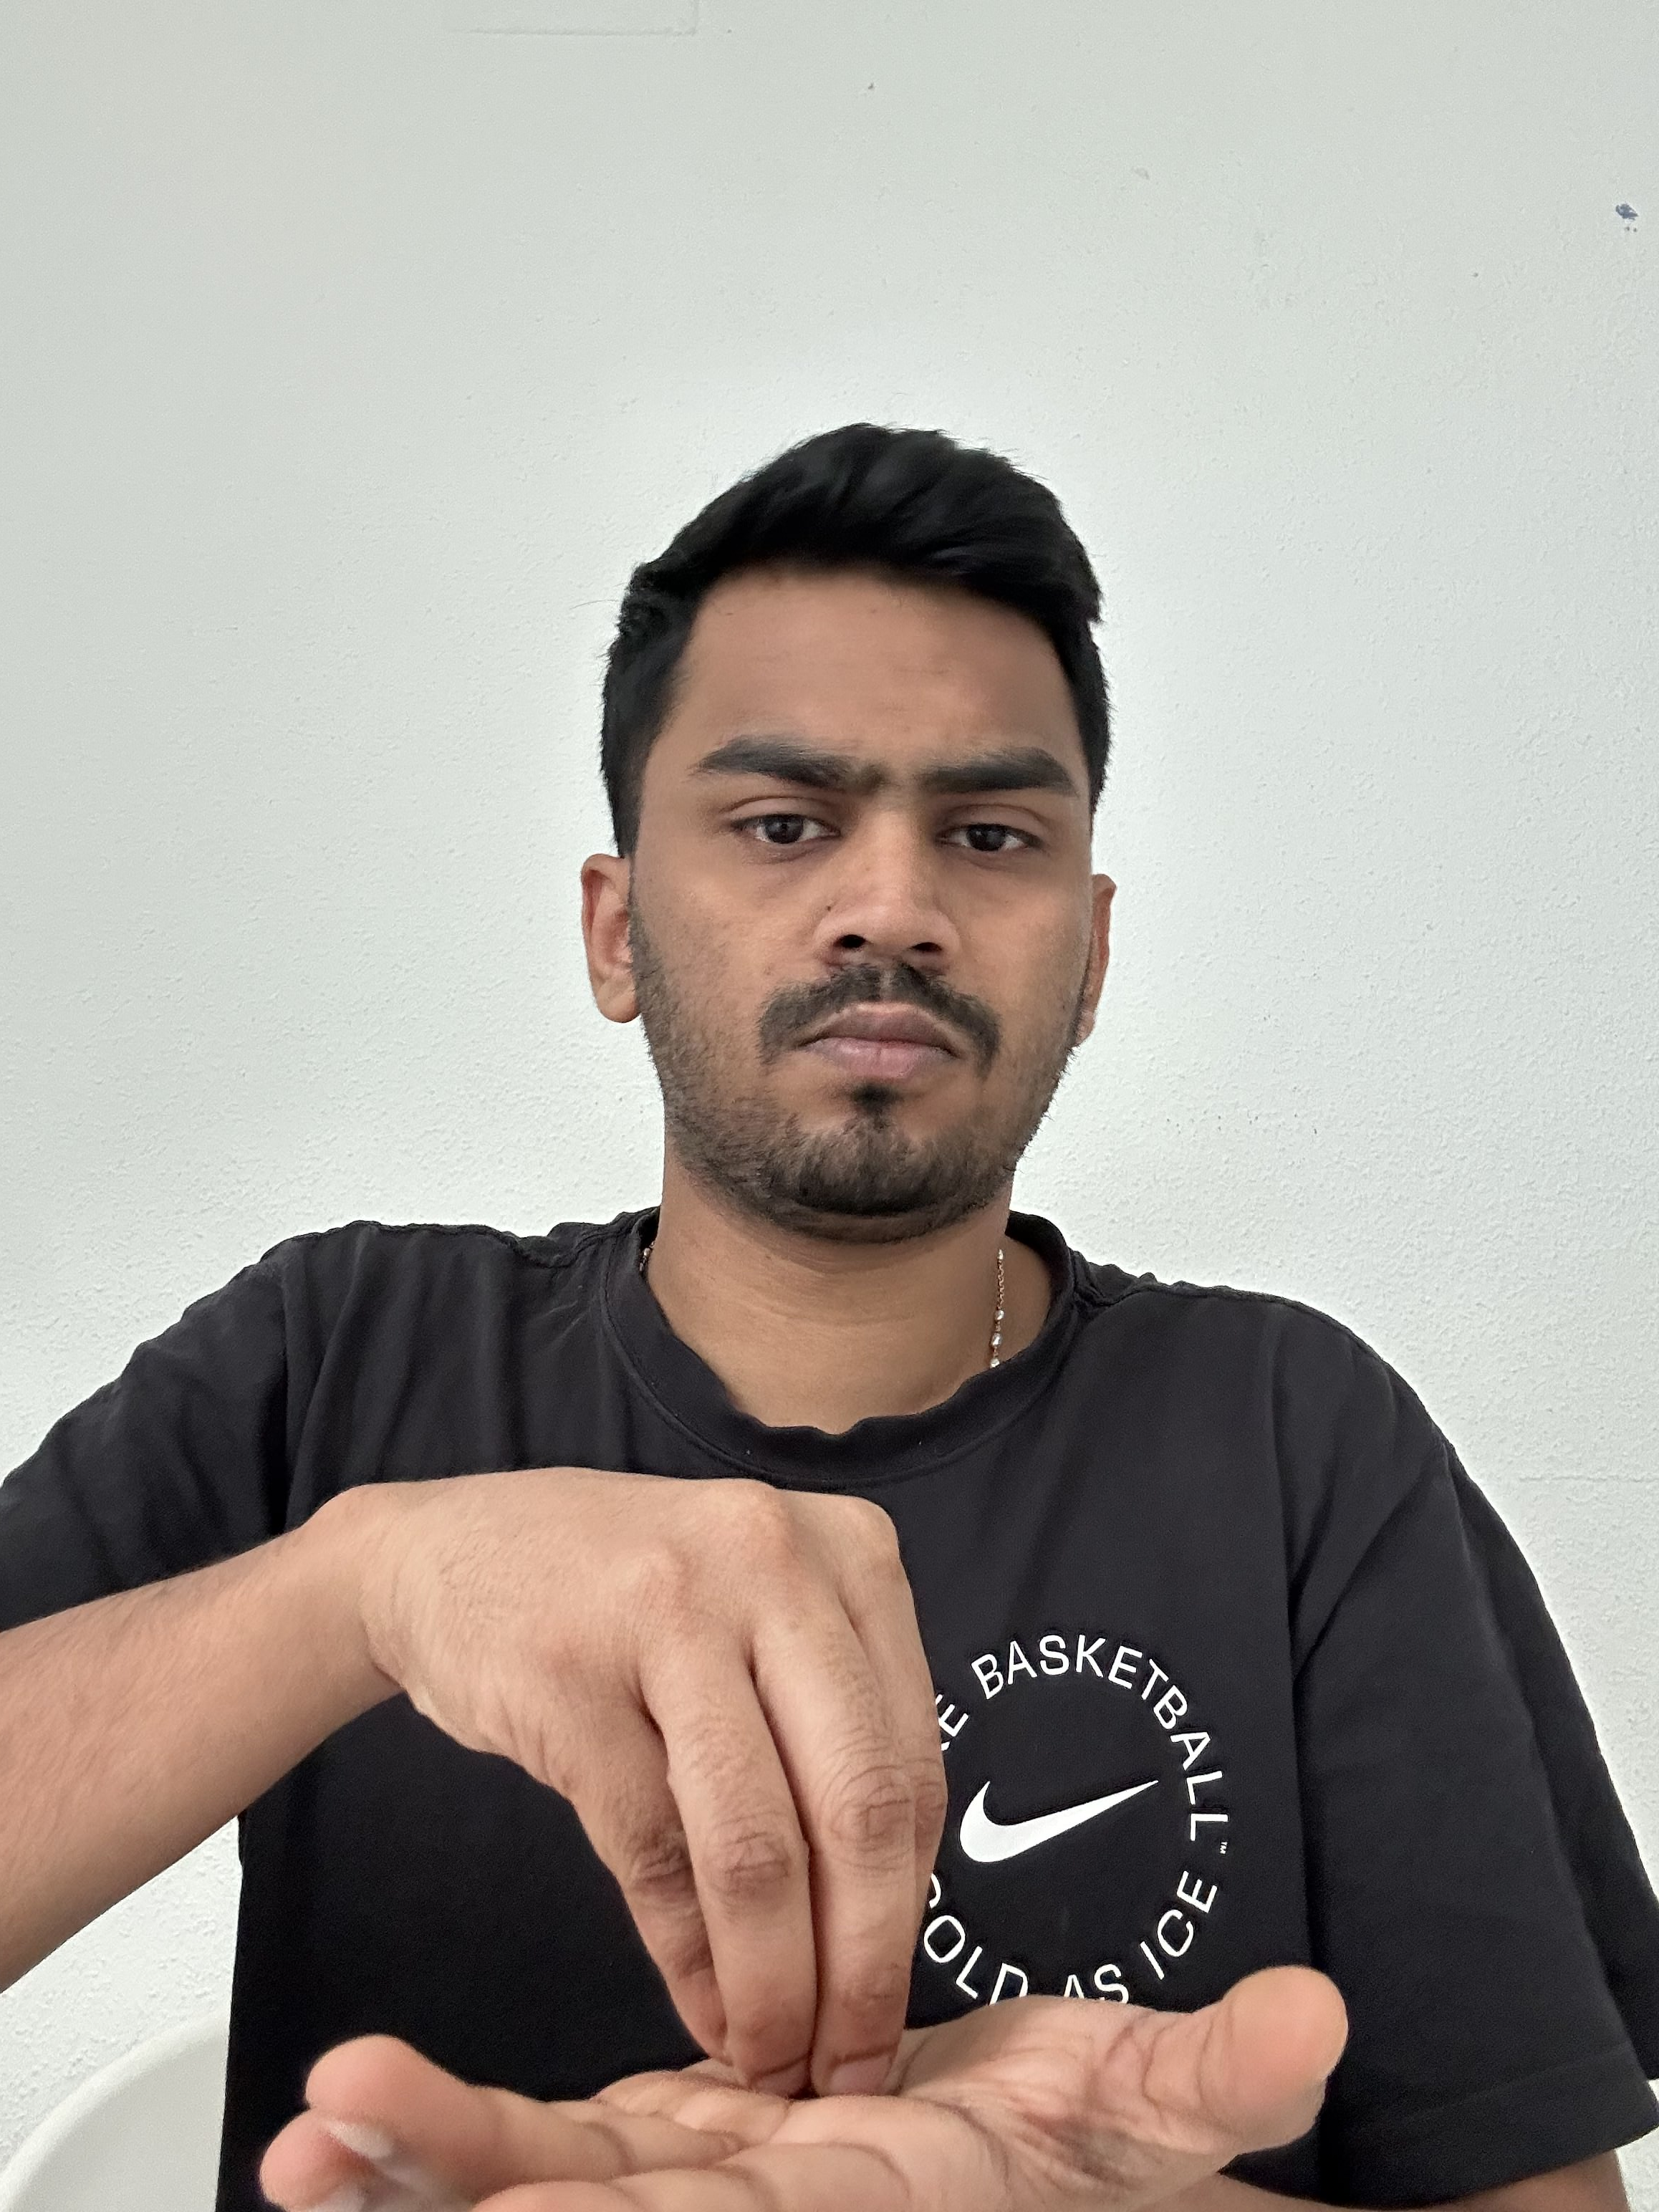learning: (5, 415, 1652, 2203)
